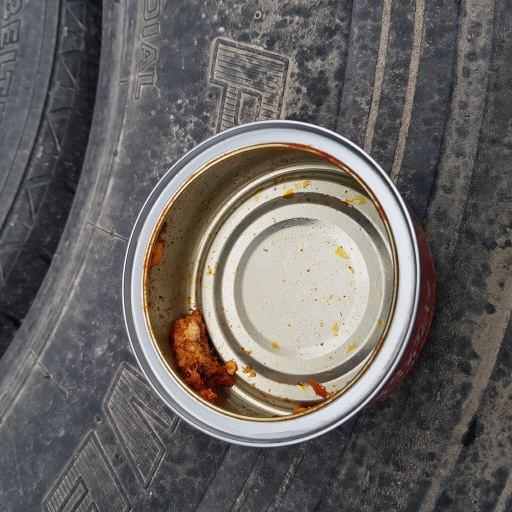Metal_1: (117, 119, 433, 451)
